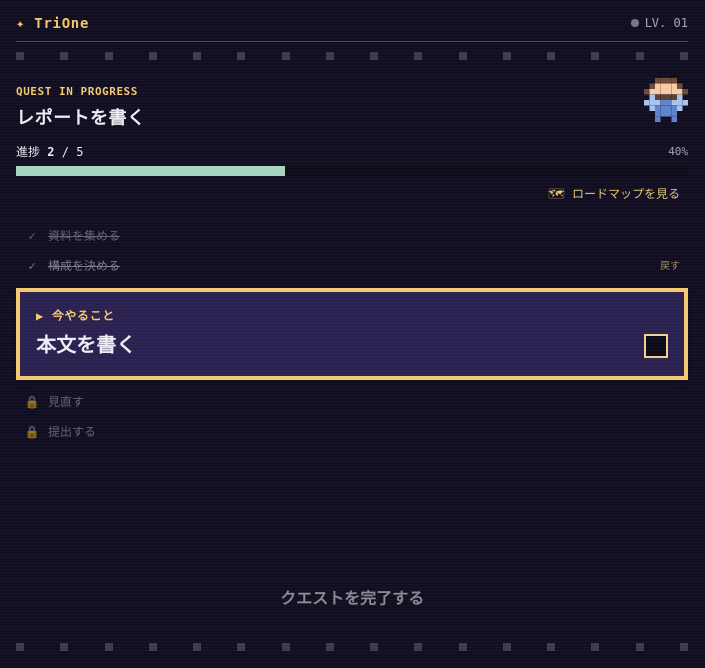
Scenario: QuestProgressScreen › 順番どおりに 1 つずつ進める › 更新に失敗したら元に戻してエラーを表示する
Click the heading "本文を書く" at (86, 345), box 36,333 -> 136,357
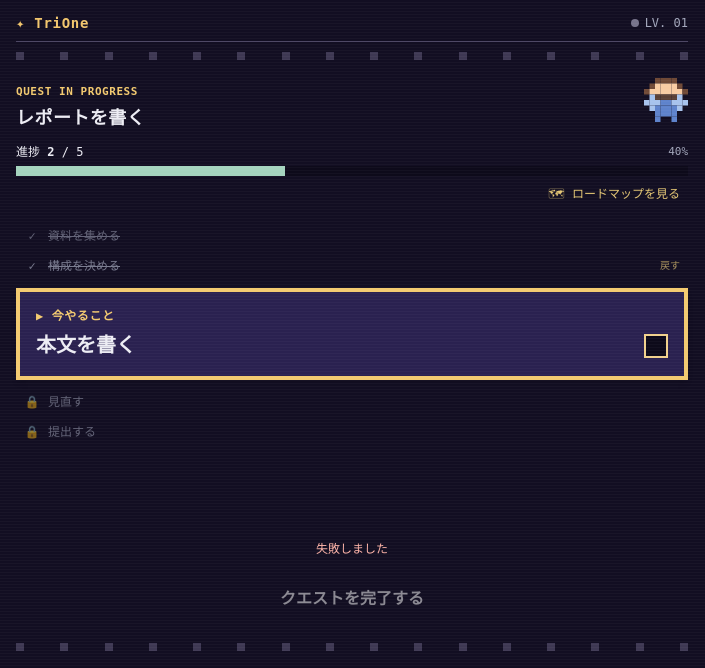
Now the message reads "失敗しました", box 316,542 -> 388,556
